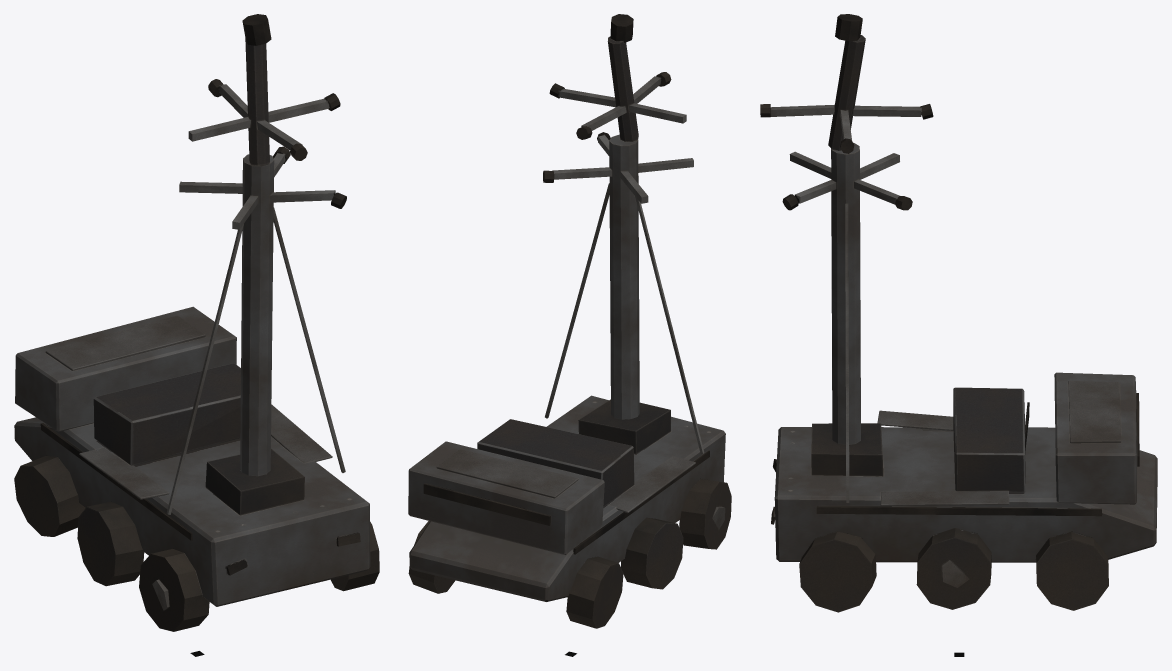
The model's file is chs_shroud_wreck.fbx.
3 views of the same model, side by side, from view 1: azimuth 30°, elevation 25°; view 2: azimuth 150°, elevation 25°; view 3: azimuth 270°, elevation 25° (orthographic). The views are drawn at different scales.
Parts seen in each view (by area): view 1: base_bar, array_bar, wheelL2_bar, wheelL3_bar, wheelL1_bar, wheelR3_bar; view 2: base_bar, array_bar, wheelL2_bar, wheelL1_bar, wheelL3_bar, wheelR1_bar; view 3: base_bar, array_bar, wheelR2_bar, wheelR3_bar, wheelR1_bar.
Part boxes in pixels (x1,y1,x2,y2): base_bar: (14, 207, 370, 606); array_bar: (179, 14, 346, 476); wheelL2_bar: (77, 501, 144, 586); wheelL3_bar: (139, 549, 209, 631); wheelL1_bar: (14, 456, 85, 536); wheelR3_bar: (331, 521, 379, 591); base_bar: (408, 183, 725, 601); array_bar: (543, 14, 693, 419); wheelL2_bar: (621, 517, 683, 589); wheelL1_bar: (566, 556, 623, 628); wheelL3_bar: (679, 479, 731, 549); wheelR1_bar: (408, 521, 455, 593); base_bar: (771, 203, 1157, 562); array_bar: (760, 14, 933, 444); wheelR2_bar: (916, 528, 991, 609); wheelR3_bar: (799, 531, 876, 612); wheelR1_bar: (1036, 531, 1108, 610).
Bounding box in the file's own units: 458 × 1393 × 786.
Materials: 2 (2 with a texture image).
